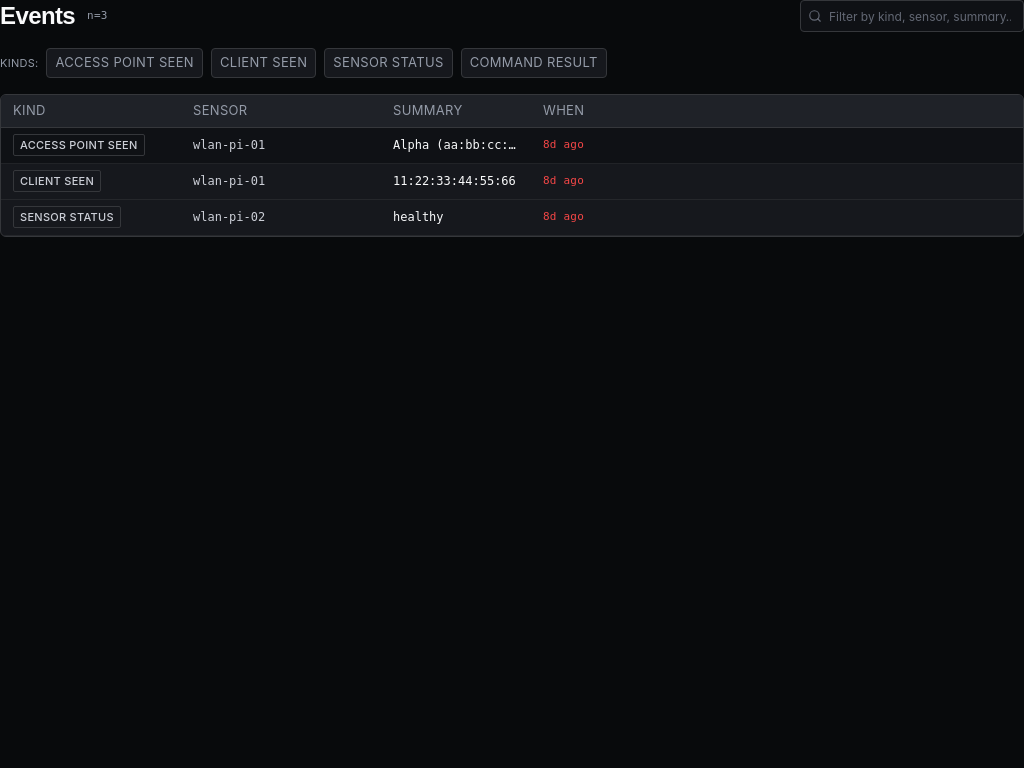
Test: EventsView › opens the detail drawer and shows the JSON payload
Click the text "11:22:33:44:55:66". click: click(454, 181)
box: left=393, top=172, right=516, bottom=190
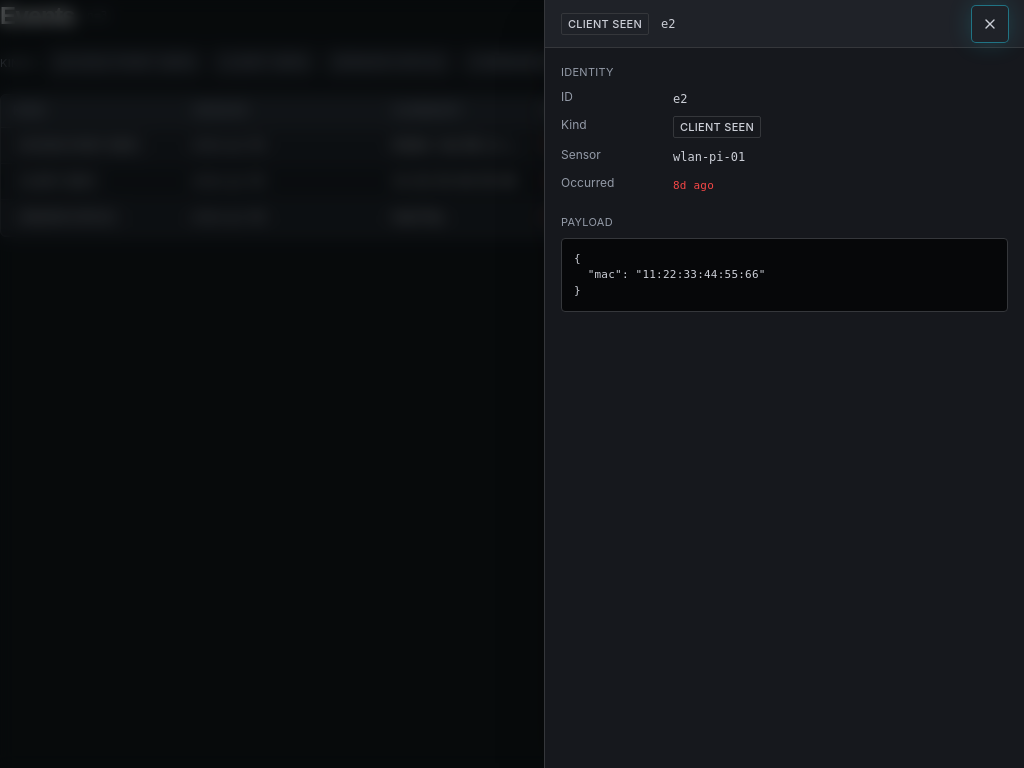
Expected: the text with test id "event-payload" shows "11:22:33:44:55:66", left=574, top=252, right=766, bottom=297
